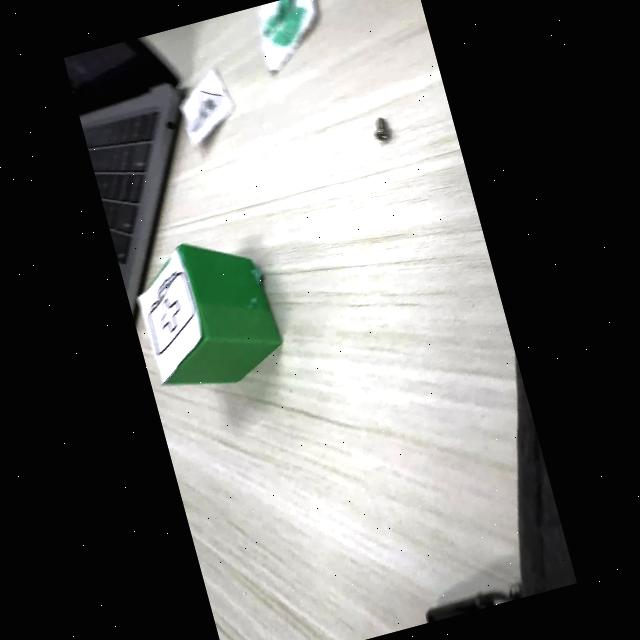Medkit: (146, 265, 199, 377)
